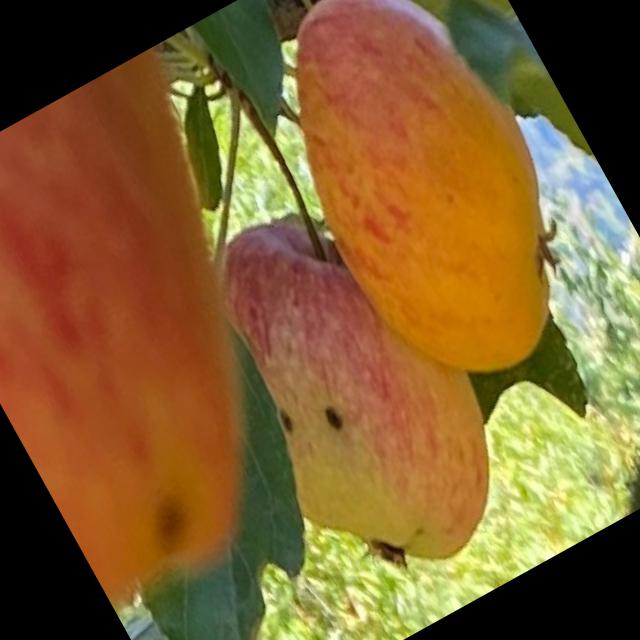Apples: (0, 45, 396, 625), (167, 169, 538, 606), (232, 0, 617, 410)
